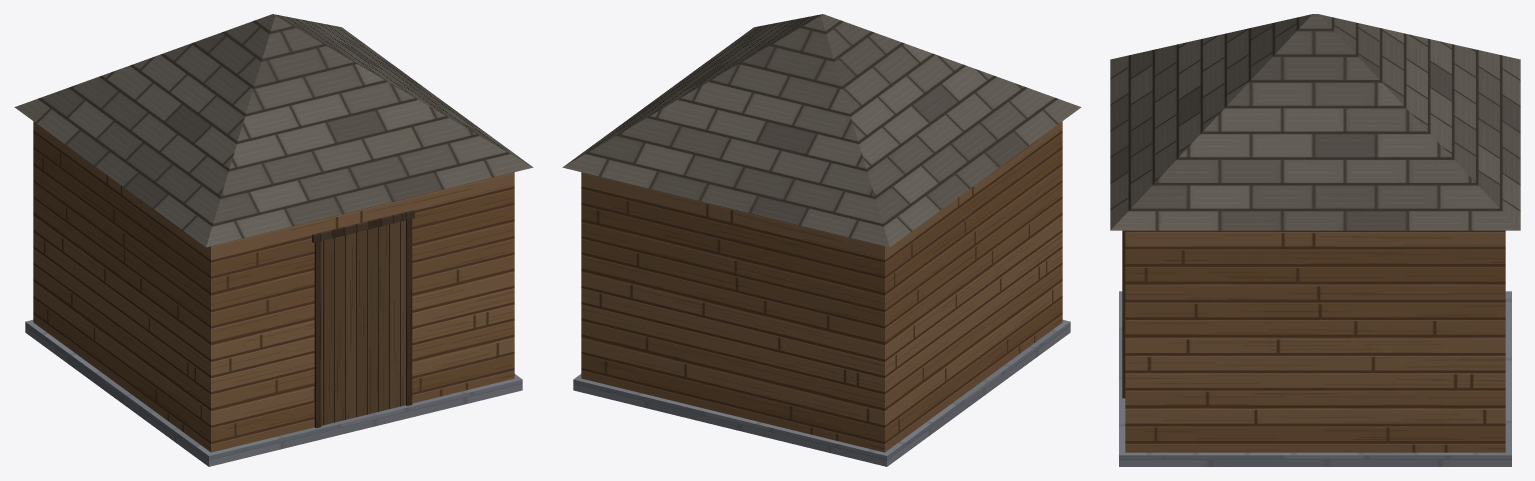
Rendered from house_hut.glb.
3 views of the same model, side by side, from view 1: azimuth 30°, elevation 25°; view 2: azimuth 150°, elevation 25°; view 3: azimuth 270°, elevation 25° (orthographic). The views are drawn at different scales.
Visible parts, largest first — view 1: ae_snow_house_hut; view 2: ae_snow_house_hut; view 3: ae_snow_house_hut.
Part boxes in pixels (left/top/right/bottom): ae_snow_house_hut: left=14, top=14, right=533, bottom=466; ae_snow_house_hut: left=562, top=14, right=1081, bottom=466; ae_snow_house_hut: left=1110, top=14, right=1520, bottom=466.
Bounding box in the file's own units: 3.78 × 3.82 × 3.83.
Materials: 1 (1 with a texture image).
